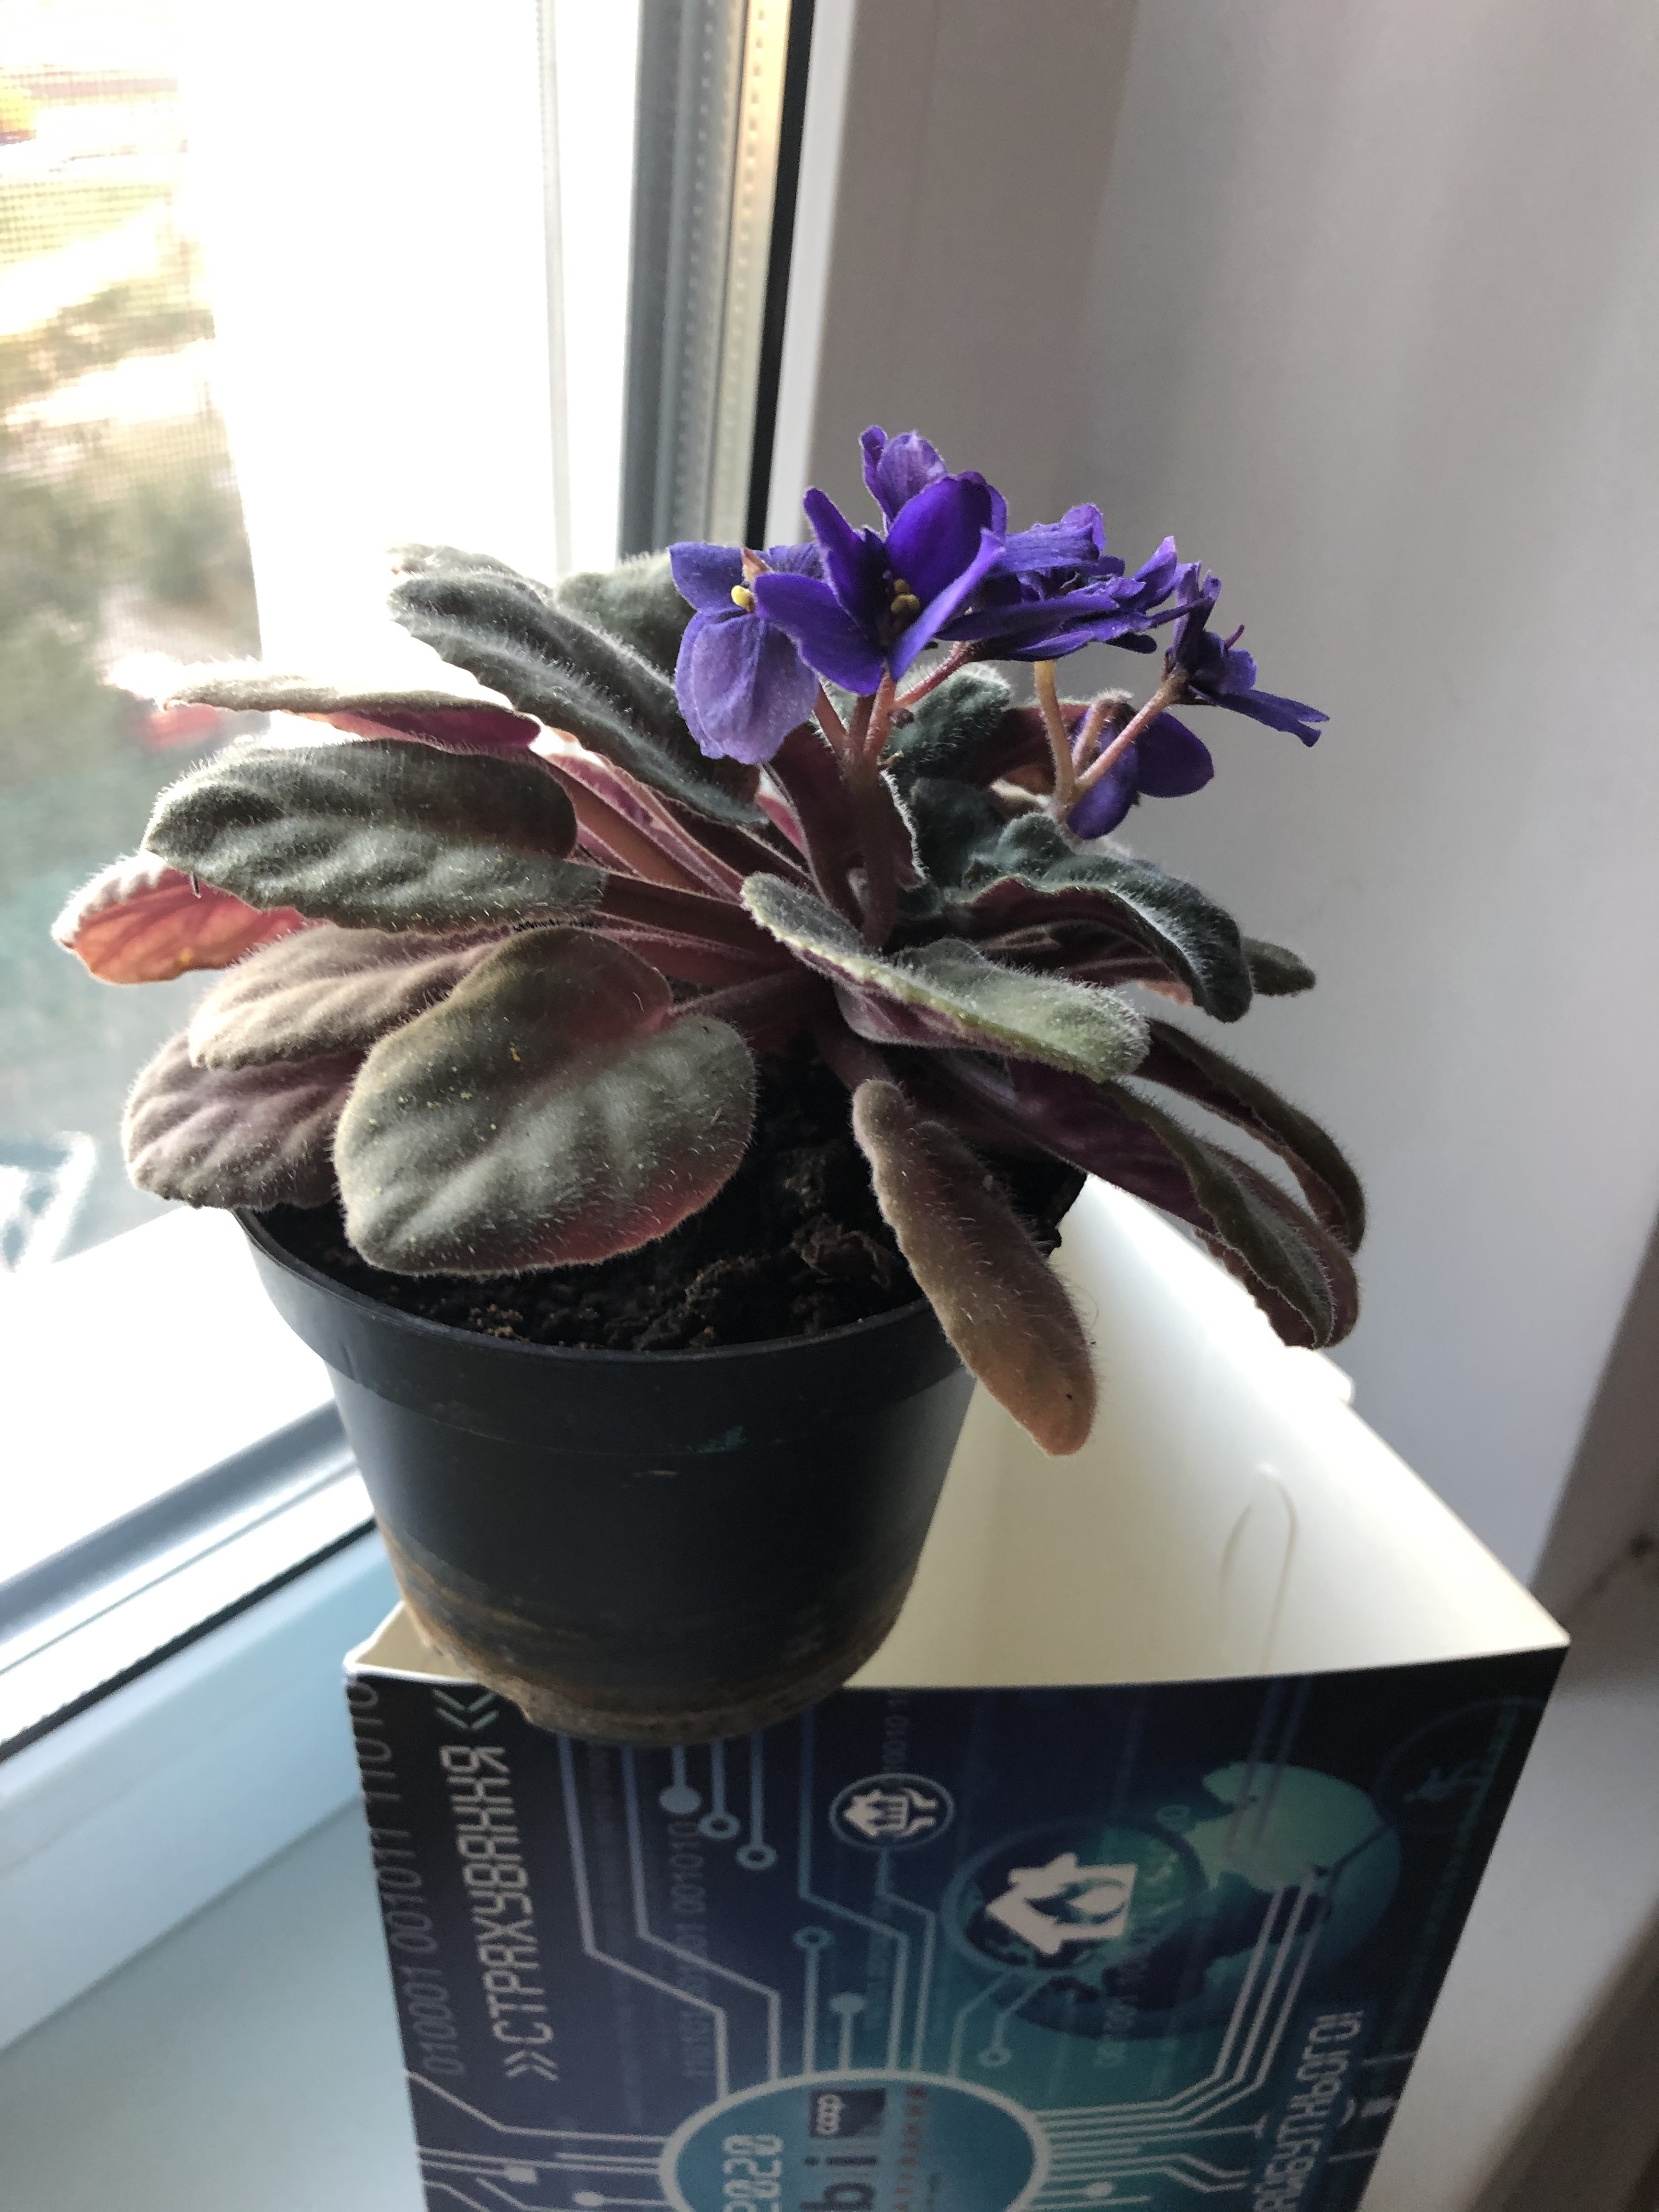ignore: (51, 354, 1394, 1400)
